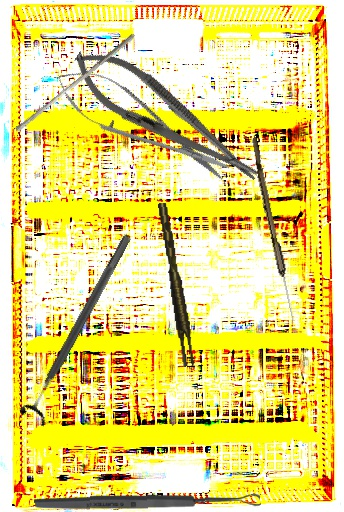Fixation Ring: (15, 227, 143, 429)
Micro Scissor: (46, 55, 239, 195)
Needle Holder: (61, 34, 271, 200)
Pusher: (14, 28, 137, 137)
Surgical Spoon: (247, 136, 299, 323), (34, 492, 261, 512)
Tissue Forceps: (158, 201, 195, 368)
